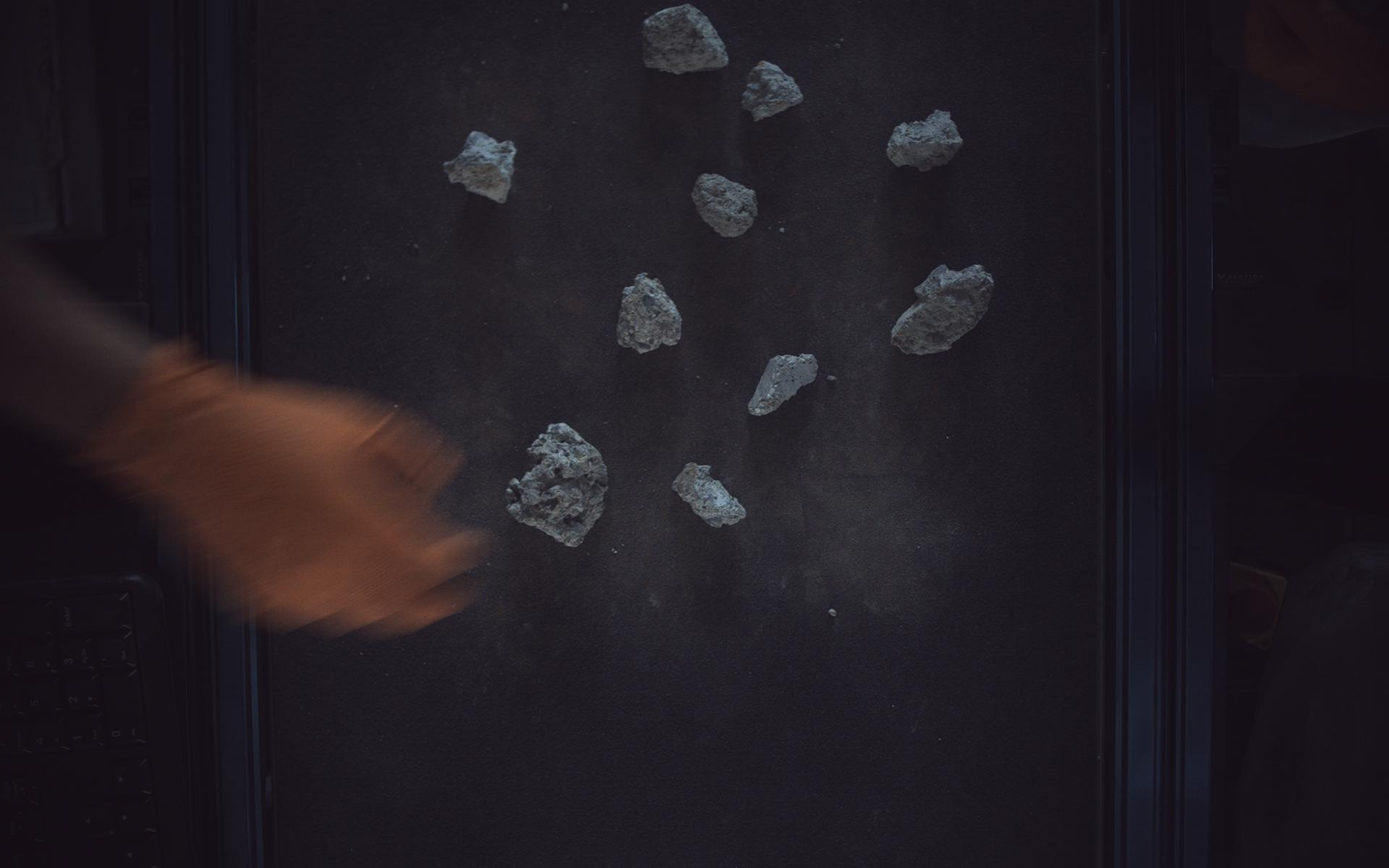concrete: (506, 423, 608, 548), (893, 264, 996, 354), (643, 2, 729, 73), (443, 130, 517, 203), (618, 272, 683, 353), (674, 463, 747, 528), (889, 109, 965, 171), (749, 354, 820, 416), (693, 173, 759, 237), (743, 59, 804, 120)
